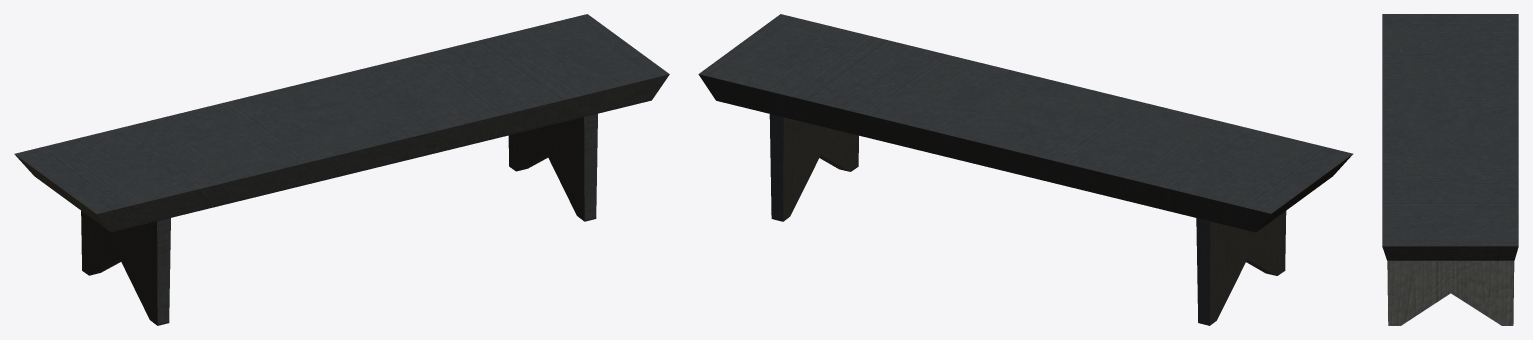
Rendered from banco 1.fbx.
3 views of the same model, side by side, from view 1: azimuth 30°, elevation 25°; view 2: azimuth 150°, elevation 25°; view 3: azimuth 270°, elevation 25° (orthographic). The views are drawn at different scales.
Parts seen in each view (by area): view 1: banco; view 2: banco; view 3: banco.
Boxes of the visible parts, left/top/right/bottom form: banco: left=14, top=14, right=669, bottom=325; banco: left=698, top=14, right=1353, bottom=325; banco: left=1382, top=14, right=1518, bottom=325.
Bounding box in the file's own units: 340 × 73.71 × 84.45.
1 material, 1 textured.
